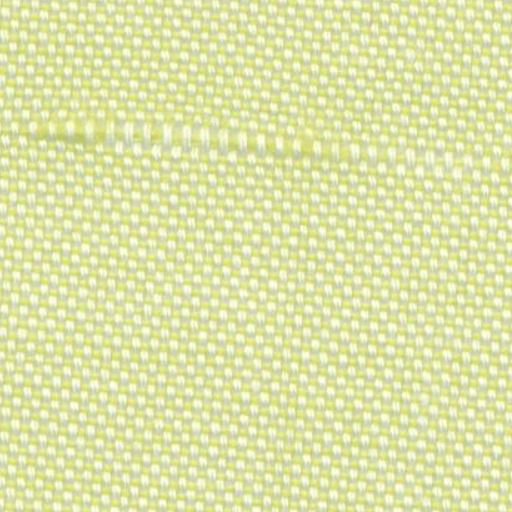DaiSha: (20, 98, 468, 187)
